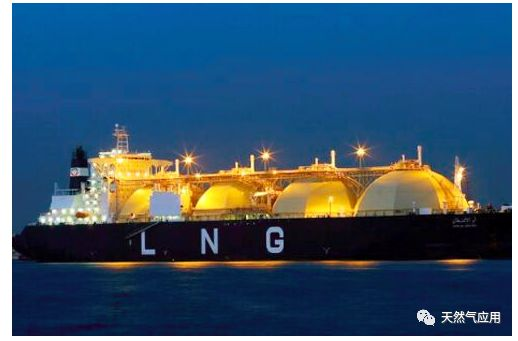Cargoship: (13, 122, 518, 265)
